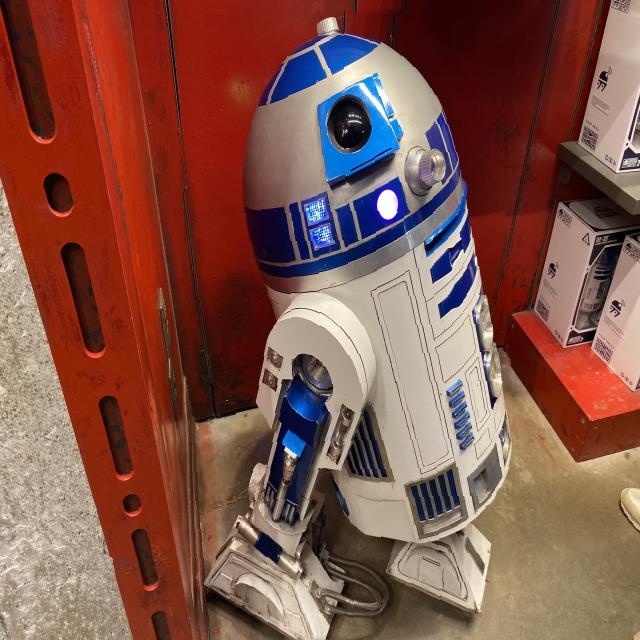r2-d2: (182, 8, 515, 640)
